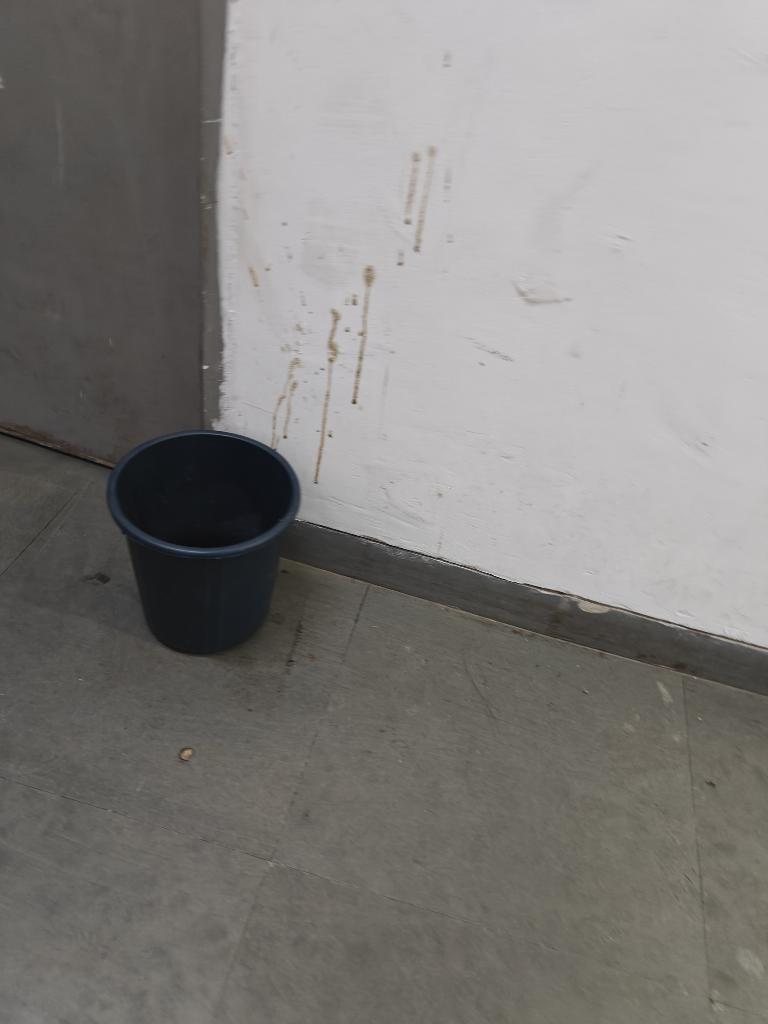dustbin: (79, 415, 303, 664)
